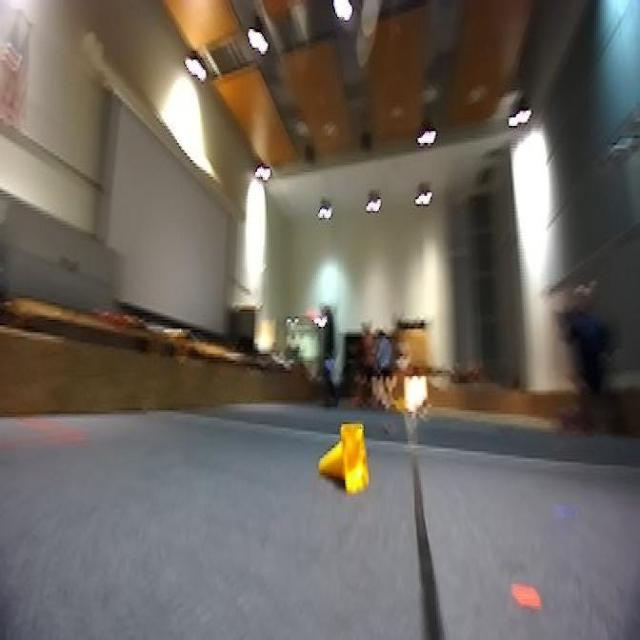frc_cone: (319, 420, 375, 497)
